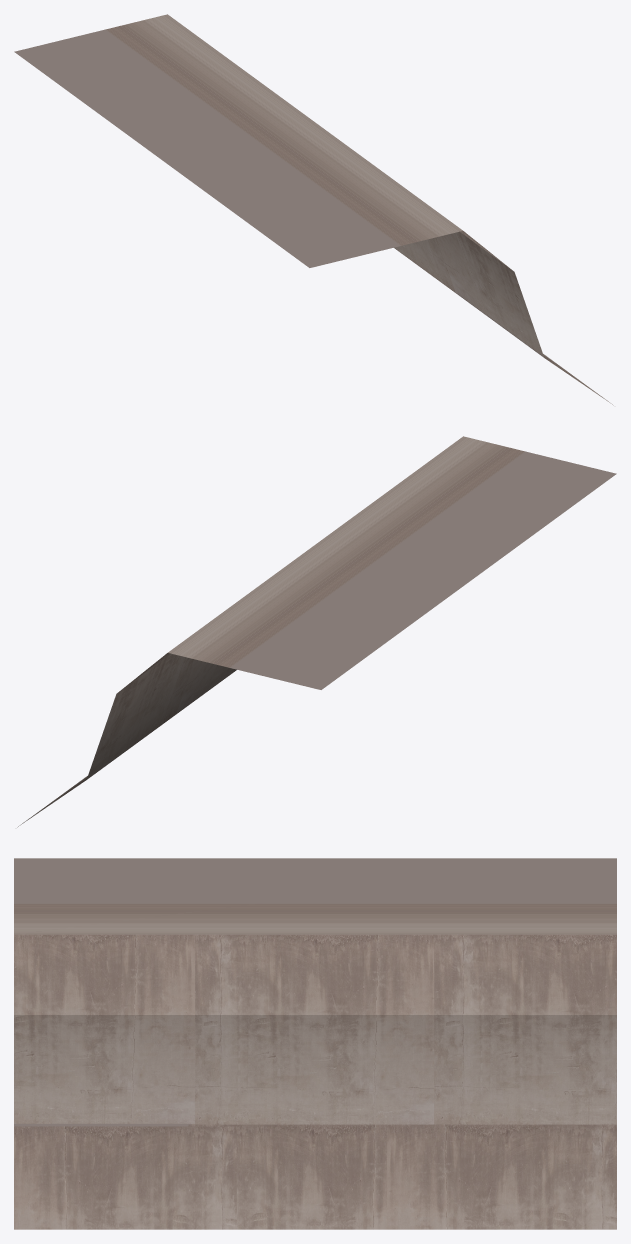
Rendered from stadWallsStraight.fbx.
3 views of the same model, one above another, from view 1: azimuth 30°, elevation 25°; view 2: azimuth 150°, elevation 25°; view 3: azimuth 270°, elevation 25° (orthographic).
Parts seen in each view (by area): view 1: wallStraight; view 2: wallStraight; view 3: wallStraight.
Part boxes in pixels (left/top/right/bottom): wallStraight: left=14, top=14, right=613, bottom=405; wallStraight: left=17, top=436, right=616, bottom=827; wallStraight: left=14, top=858, right=616, bottom=1229.
Size of the model in its own units: 600 by 400 by 1000.
1 material, 1 textured.
